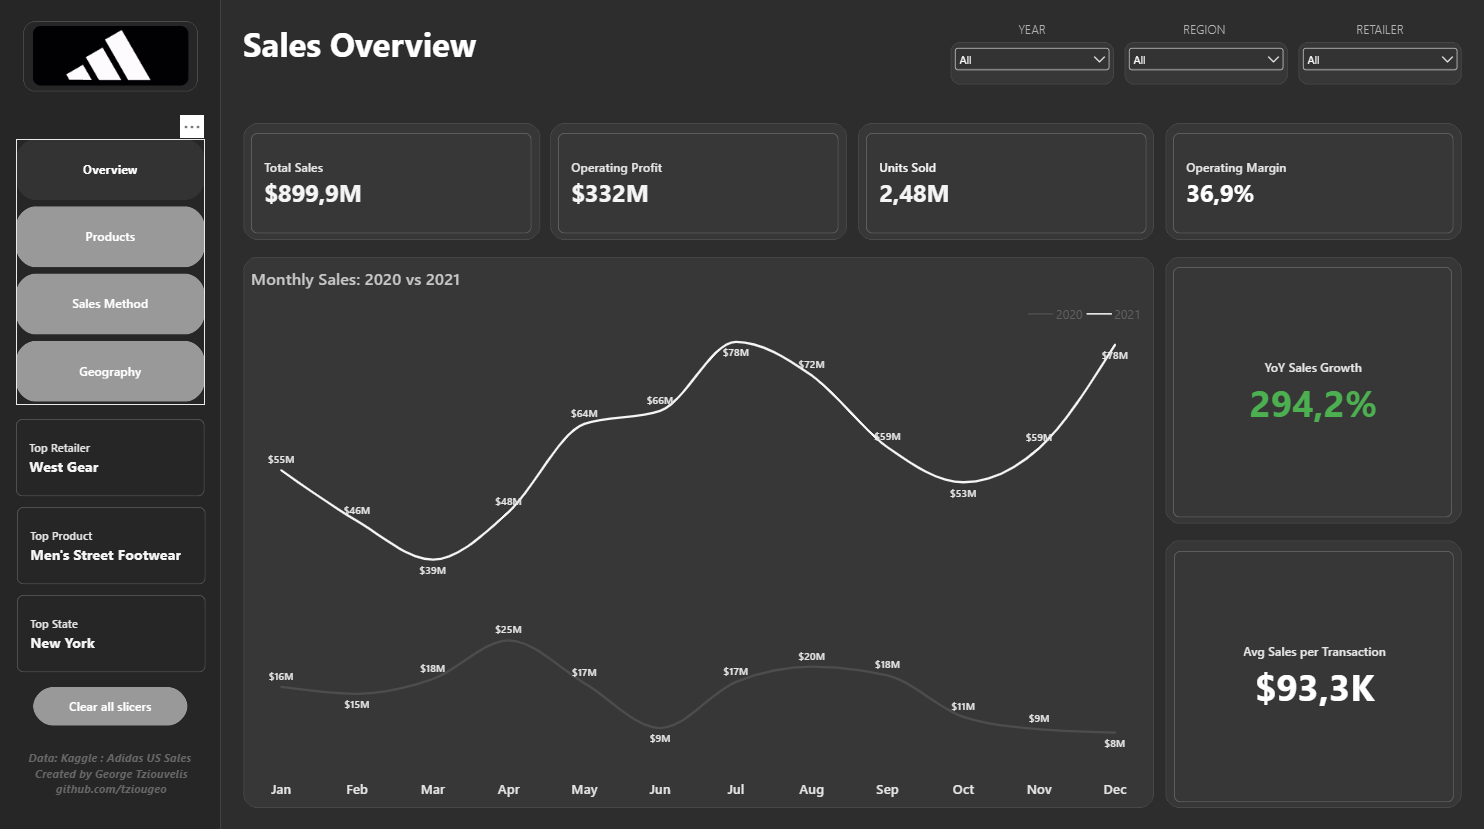

The dashboard page shown, as its layout file describes it:
{"tool":"powerbi","page":{"name":"Overview","canvas":[1920,1080],"ordinal":0},"visuals":[{"type":"cardVisual","fields":{"Data":["Measuress.Total Sales"]},"box":[325,175,363,130],"z":0},{"type":"cardVisual","fields":{"Data":["Measuress.Margin %"]},"box":[1518,175.1,363,130],"z":1000},{"type":"cardVisual","fields":{"Data":["Measuress.Units Sold"]},"box":[1120,175.1,363,130],"z":2000},{"type":"cardVisual","fields":{"Data":["Measuress.Operating Profit"]},"box":[722,175.1,363,130],"z":3000},{"type":"cardVisual","fields":{"Data":["Measuress.YoY Growth %"]},"box":[1518,348,361,324],"z":4000},{"type":"cardVisual","fields":{"Data":["Measuress.Avg Sales per Line"]},"box":[1518.8,715,362,325],"z":5000},{"type":"lineChart","title":"\tMonthly Sales: 2020 vs 2021","fields":{"Category":["Date.Month"],"Series":["Date.Year"],"Y":["Measuress.Total Sales"]},"box":[325,348,1157,692],"z":6000},{"type":"image","box":[42.3,36.5,201.3,77.3],"z":7000},{"type":"slicer","title":"YEAR","fields":{"Values":["Date.Year"]},"box":[1230,60,210,54],"z":8000},{"type":"slicer","fields":{"Values":["Data Sales Adidas.Region"]},"box":[1455,60,210,54],"z":9000},{"type":"slicer","fields":{"Values":["Data Sales Adidas.Retailer"]},"box":[1680,60,210,54],"z":10000},{"type":"textbox","box":[1230,30,210,28],"z":11000},{"type":"textbox","box":[1455,30,210,28],"z":12000},{"type":"textbox","box":[1680,30,210,28],"z":13000},{"type":"pageNavigator","box":[21,183,244.3,343.2],"z":14000},{"type":"textbox","box":[315,30.2,840.7,73.3],"z":15000},{"type":"textbox","box":[21.6,972.9,244.3,80.5],"z":16000},{"type":"actionButton","box":[43.1,891,200,50],"z":17000},{"type":"cardVisual","fields":{"Data":["Measuress.Top Retailer"]},"box":[21,545,244,100],"z":17001},{"type":"cardVisual","fields":{"Data":["Measuress.Top Product"]},"box":[22,659,244,100],"z":17002},{"type":"cardVisual","fields":{"Data":["Measuress.Top State"]},"box":[22,773,244.5,100],"z":17003}]}

Visuals, with their boxes in screenshot pixels (x1, y1, x2, y2), scaled from the page's 1920x1080 canvas onto the 1484x829 screenshot:
cardVisual - Measuress.Total Sales: crop(251, 134, 532, 234)
cardVisual - Measuress.Margin %: crop(1173, 134, 1454, 234)
cardVisual - Measuress.Units Sold: crop(866, 134, 1146, 234)
cardVisual - Measuress.Operating Profit: crop(558, 134, 839, 234)
cardVisual - Measuress.YoY Growth %: crop(1173, 267, 1452, 516)
cardVisual - Measuress.Avg Sales per Line: crop(1174, 549, 1454, 798)
"	Monthly Sales: 2020 vs 2021" lineChart: crop(251, 267, 1145, 798)
image: crop(33, 28, 188, 87)
"YEAR" slicer: crop(951, 46, 1113, 88)
slicer - Data Sales Adidas.Region: crop(1125, 46, 1287, 88)
slicer - Data Sales Adidas.Retailer: crop(1298, 46, 1461, 88)
textbox: crop(951, 23, 1113, 45)
textbox: crop(1125, 23, 1287, 45)
textbox: crop(1298, 23, 1461, 45)
pageNavigator: crop(16, 140, 205, 404)
textbox: crop(243, 23, 893, 79)
textbox: crop(17, 747, 206, 809)
actionButton: crop(33, 684, 188, 722)
cardVisual - Measuress.Top Retailer: crop(16, 418, 205, 495)
cardVisual - Measuress.Top Product: crop(17, 506, 206, 583)
cardVisual - Measuress.Top State: crop(17, 593, 206, 670)
